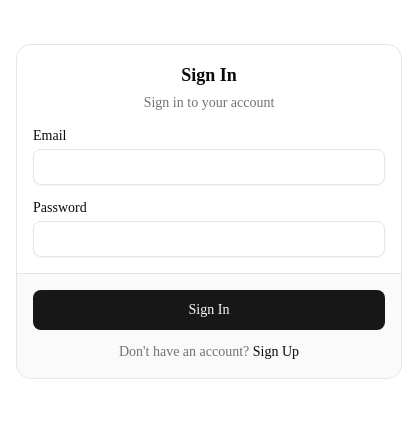
Scenario: SignInForm › explains a network failure
The width and height of the screenshot is (419, 424).
Type "alice@example.com" into the field labelled "Email" at (209, 166), box 33,148 -> 385,184
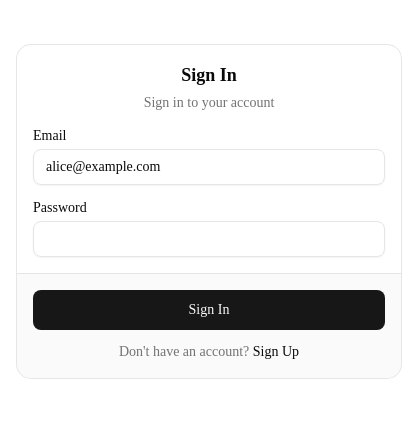
Type "correct horse" into the password field labelled "Password" at (209, 238), box 33,220 -> 385,256
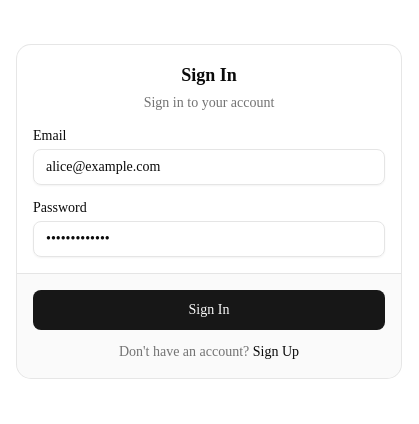
Click the button "Sign In" at (209, 310), box 33,290 -> 385,330
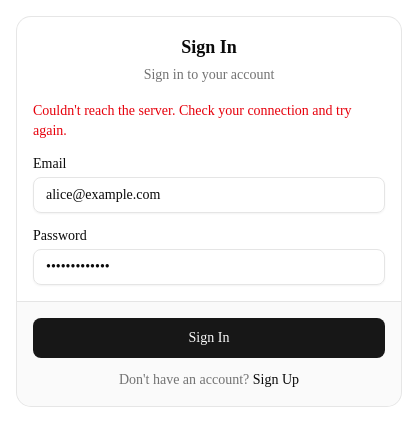
Result: the message shows "Couldn't reach the server" at 33,102 -> 352,138
